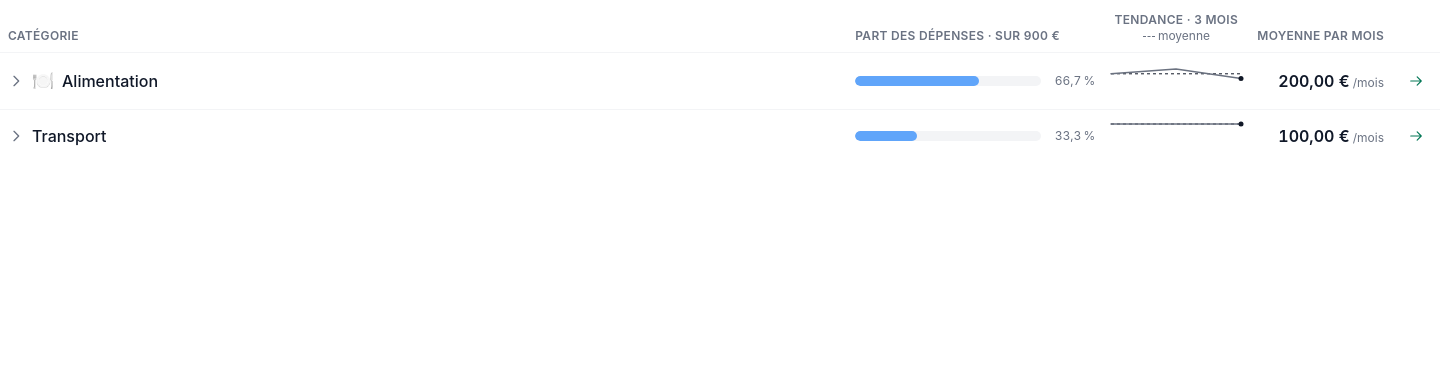
CategoryBreakdownList › toggles drill-down off when the same row is clicked again
The image size is (1440, 368).
What coordinates should you click on to do the following:
click the button with test id "category-row-Alimentation"
I would click on:
 (110, 81)
Its box is [8, 63, 839, 99].
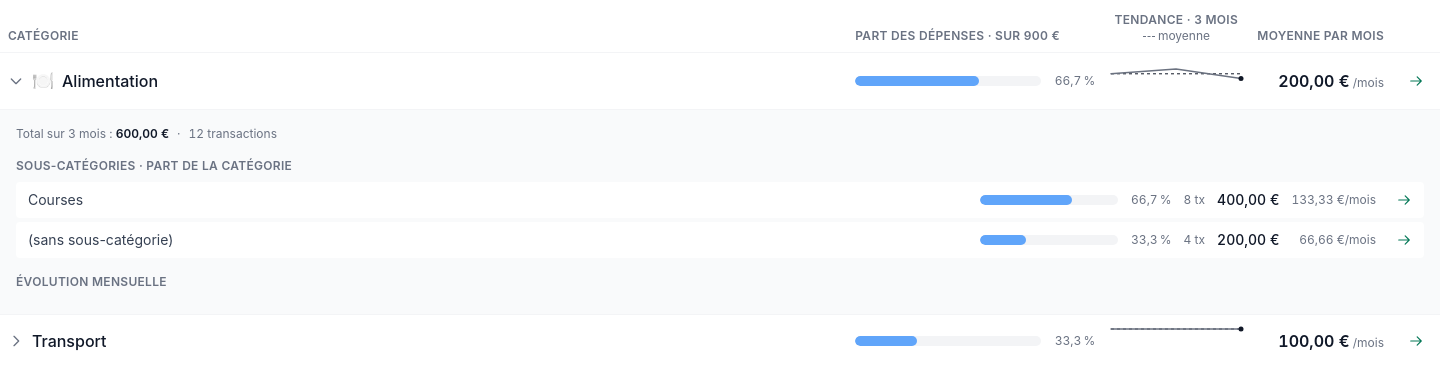
Check: the text "Sous-catégories" is shown, box [16, 158, 292, 173]
What coordinates should you click on to do the following:
click the button with test id "category-row-Alimentation"
I would click on:
 (110, 81)
Its box is [8, 63, 839, 99].
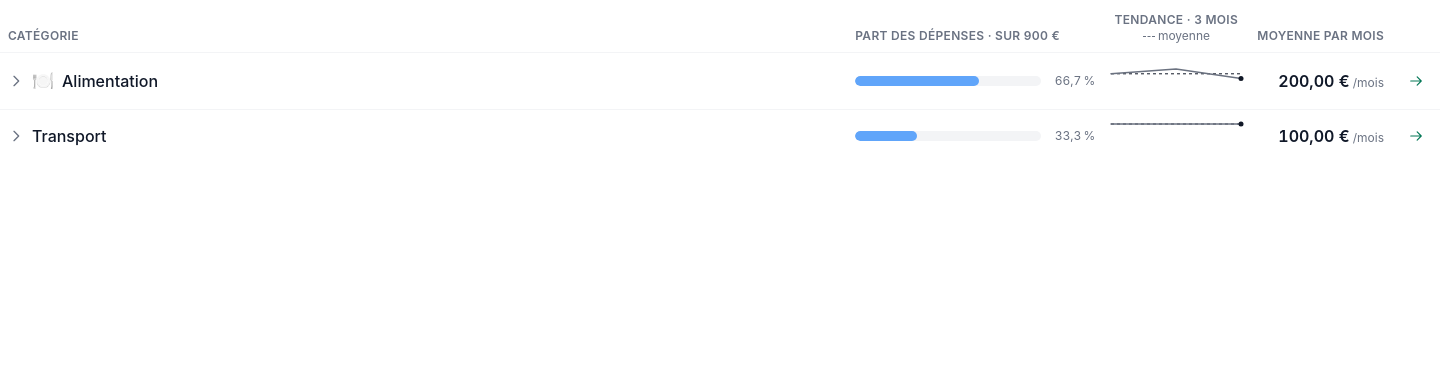
Check: the text "Sous-catégories" is gone
